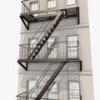stairs: (23, 13, 66, 60), (22, 65, 74, 97)
